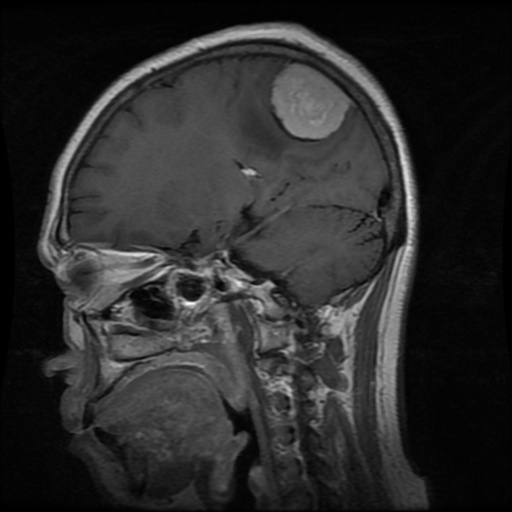meningioma: (271, 64, 348, 139)
